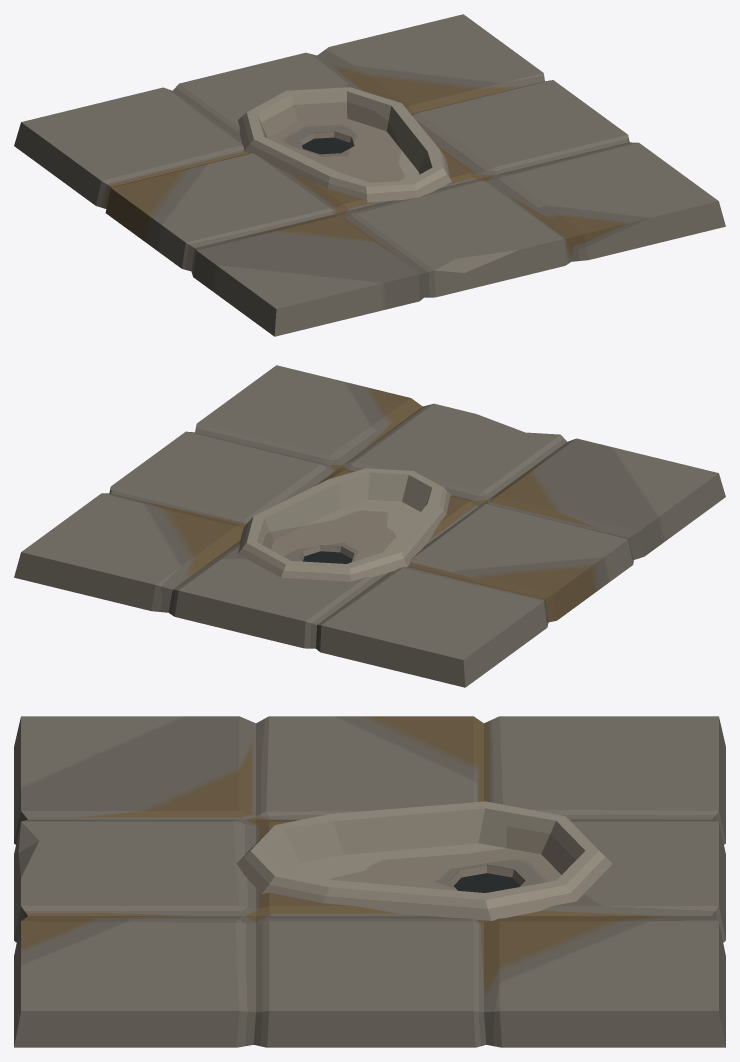
Rendered from SM_Prop_Toilet_Ground_01.glb.
3 renders of one model, top to bottom at view 1: azimuth 30°, elevation 25°; view 2: azimuth 150°, elevation 25°; view 3: azimuth 270°, elevation 25°, orthographic. The views are drawn at different scales.
Parts seen in each view (by area): view 1: SM_Prop_Toilet_Ground_01; view 2: SM_Prop_Toilet_Ground_01; view 3: SM_Prop_Toilet_Ground_01.
Part boxes in pixels (x1,y1,x2,y2): SM_Prop_Toilet_Ground_01: (14, 14, 725, 336); SM_Prop_Toilet_Ground_01: (14, 365, 725, 687); SM_Prop_Toilet_Ground_01: (14, 716, 725, 1047).
Size of the model in its own units: 1.74 by 0.1259 by 1.74.
1 material, 1 textured.
